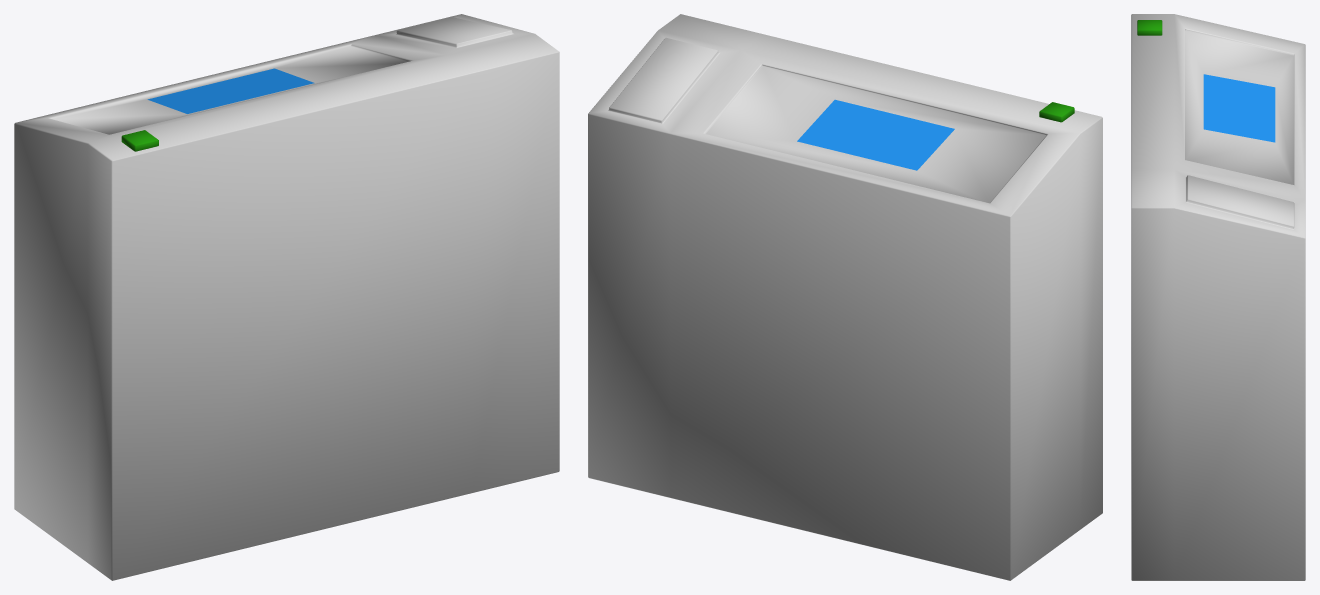
3 renders of one model, left to right at view 1: azimuth 30°, elevation 25°; view 2: azimuth 150°, elevation 25°; view 3: azimuth 270°, elevation 25°, orthographic. The views are drawn at different scales.
Visible parts, largest first — view 1: Cube; view 2: Cube; view 3: Cube.
Part boxes in pixels (x1,y1,x2,y2): Cube: (14,14,559,580); Cube: (588,14,1102,580); Cube: (1131,14,1305,580).
Bounding box in the file's own units: 29 × 26.39 × 11.
